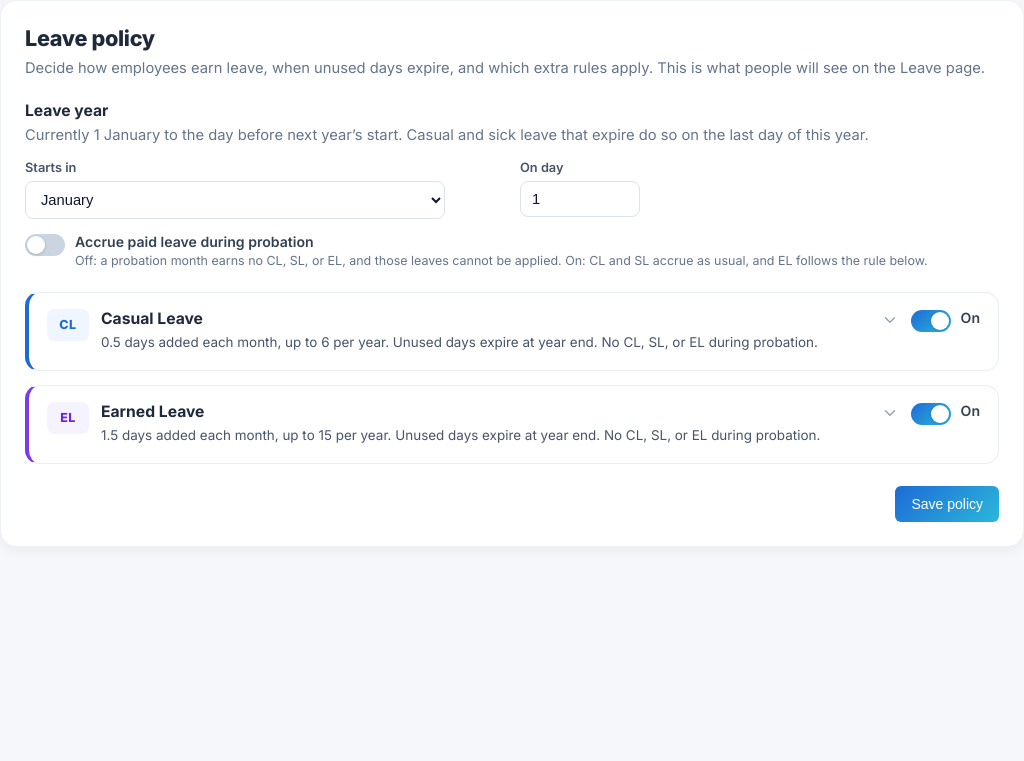
Test: LeavePolicyManager save confirmation › warns when monthly EL credit would exceed the yearly maximum
Click the button "Earned Leave": (153, 411) [101, 402, 899, 445]
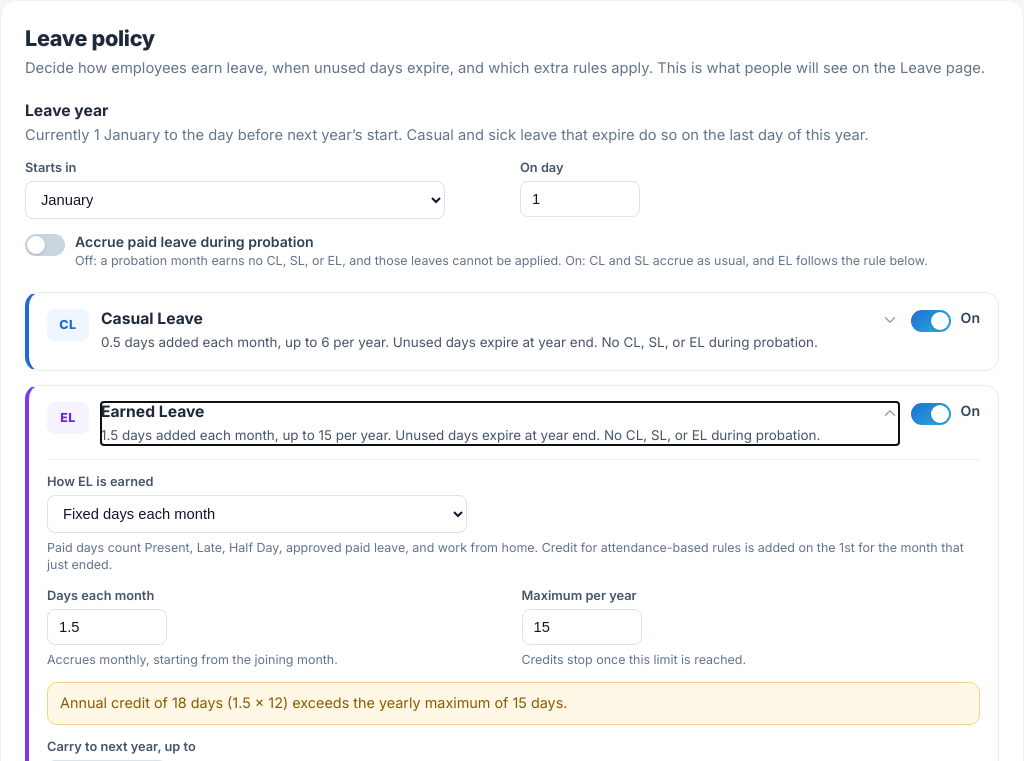
Result: the text "Annual credit of 18 days (1.5 × 12) exceeds the yearly maximum of 15 days." is shown at [47, 682, 980, 725]
